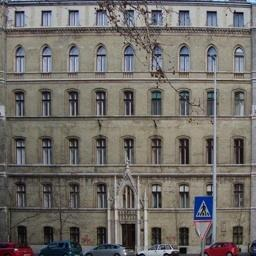building: (4, 0, 251, 241)
